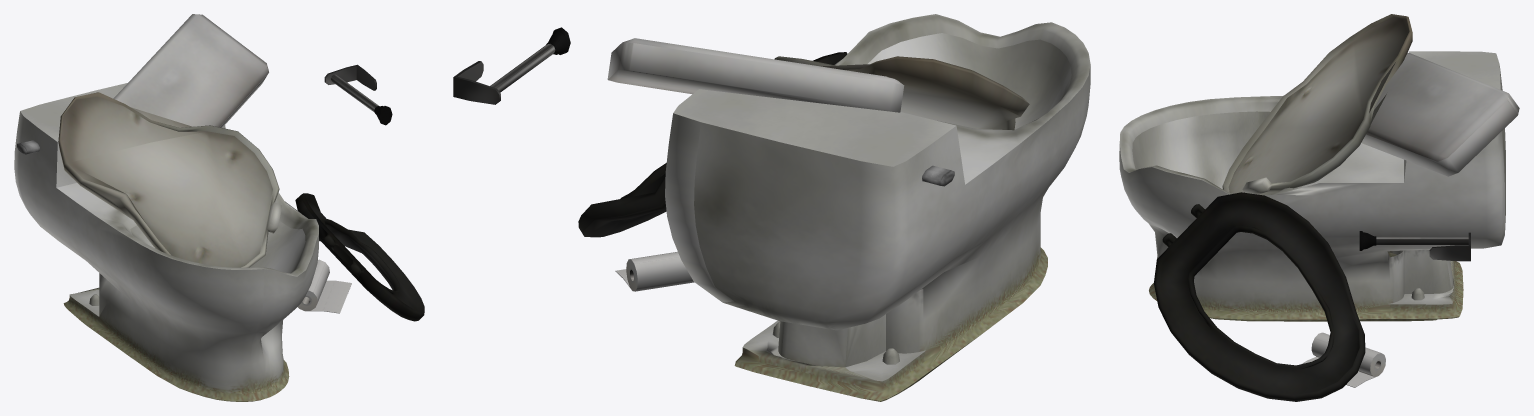
Rendered from bathroom_props_toilette_broken.fbx.
3 renders of one model, left to right at view 1: azimuth 30°, elevation 25°; view 2: azimuth 150°, elevation 25°; view 3: azimuth 270°, elevation 25°, orthographic. The views are drawn at different scales.
Parts seen in each view (by area): view 1: Object03, Object005, 042_vray; view 2: Object005, Object03, 042_vray; view 3: Object005, Object03, 042_vray.
Part boxes in pixels (<box>): Object03: <box>17,14,424,321</box>; Object005: <box>14,83,318,401</box>; 042_vray: <box>298,64,392,313</box>; Object005: <box>665,14,1090,401</box>; Object03: <box>578,38,1029,364</box>; 042_vray: <box>453,27,694,291</box>; Object005: <box>1119,51,1505,321</box>; Object03: <box>1154,14,1519,401</box>; 042_vray: <box>1302,231,1470,387</box>.
Bounding box in the file's own units: 1.17 × 0.7654 × 1.1.
